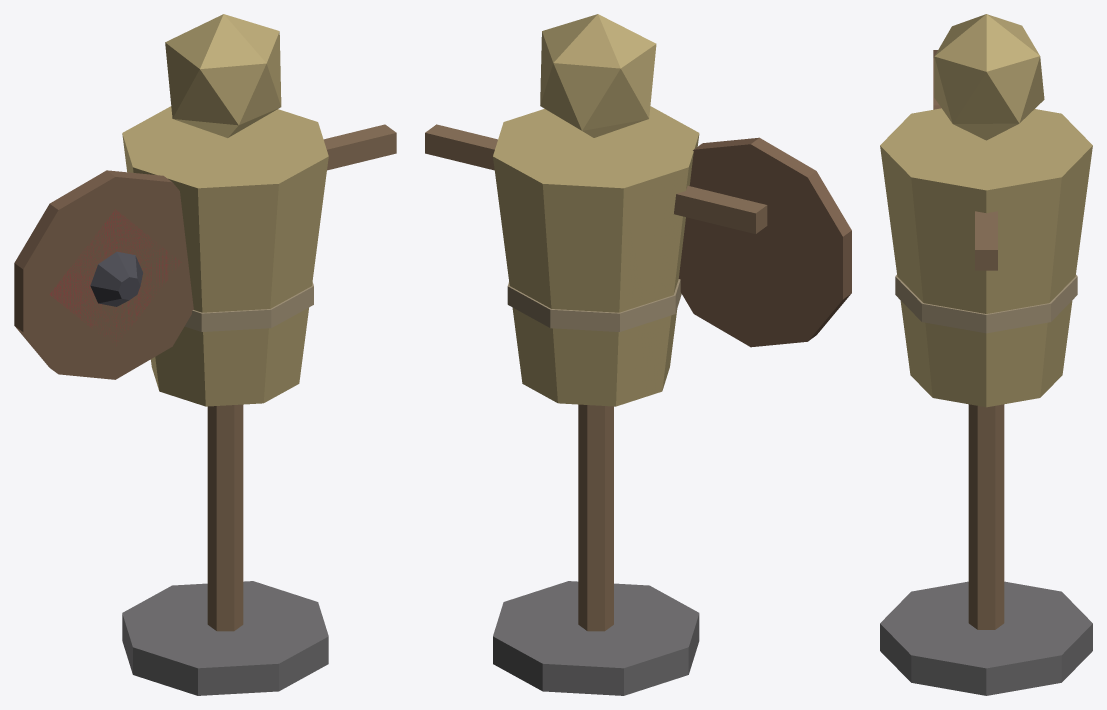
The model's file is training_dummy.glb.
3 views of the same model, side by side, from view 1: azimuth 30°, elevation 25°; view 2: azimuth 150°, elevation 25°; view 3: azimuth 270°, elevation 25° (orthographic).
Parts seen in each view (by area): view 1: training_dummy; view 2: training_dummy; view 3: training_dummy.
Boxes of the visible parts, bbox=[...] form: training_dummy: bbox=[14, 14, 396, 695]; training_dummy: bbox=[425, 14, 851, 695]; training_dummy: bbox=[880, 14, 1092, 695].
Bounding box in the file's own units: 1.79 × 2.77 × 0.84.
